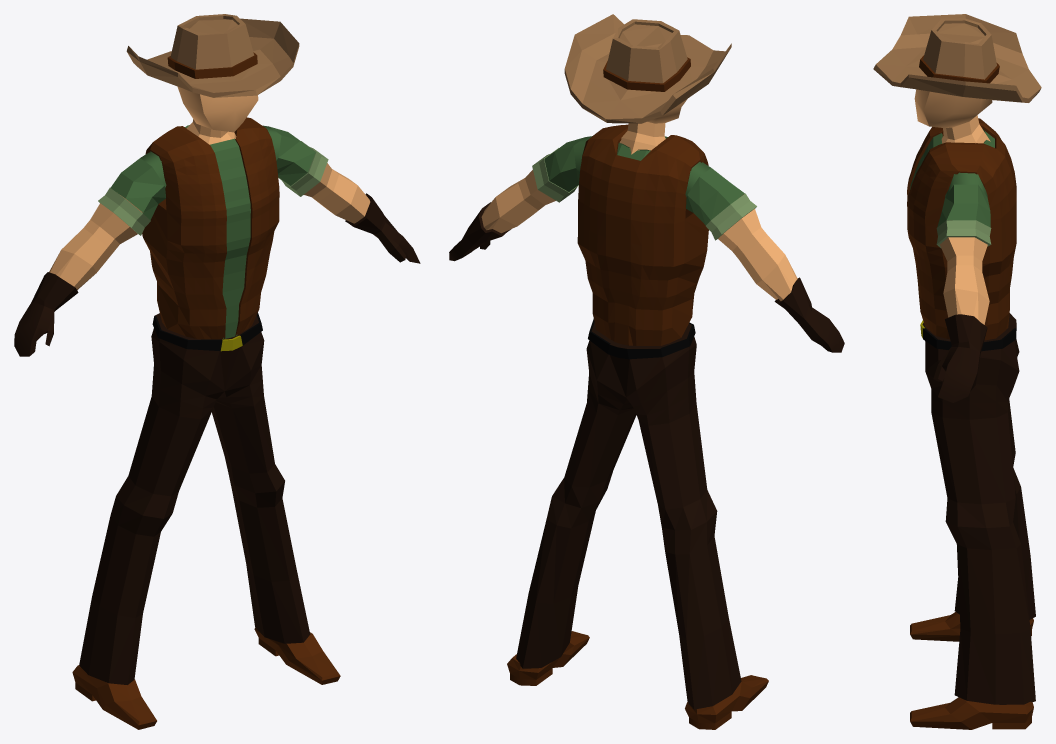
Rendered from Cowboy_1.FBX.
The picture shows the model from 3 angles, left to right: view 1: azimuth 30°, elevation 25°; view 2: azimuth 150°, elevation 25°; view 3: azimuth 270°, elevation 25°; orthographic projection. The views are drawn at different scales.
Parts seen in each view (by area): view 1: Trousers, Torso, Hat, Shirt, Boot Right, Right Arm, Head, Right Glove, Left Arm, Shirts cuffs, Left Glove, Belt (+1 smaller); view 2: Trousers, Torso, Hat, Shirt, Right Arm, Boot Right, Left Arm, Right Glove, Shirts cuffs, Head, Belt, Left Glove (+1 smaller); view 3: Trousers, Torso, Hat, Boot Right, Left Arm, Left Glove, Head, Shirt, Shirts cuffs, Belt, Hat Strap.
Part boxes in pixels (bbox=[...]): Trousers: bbox=[79, 313, 310, 684]; Torso: bbox=[142, 117, 279, 339]; Hat: bbox=[126, 14, 299, 97]; Shirt: bbox=[110, 125, 315, 339]; Boot Right: bbox=[72, 627, 340, 729]; Right Arm: bbox=[49, 195, 142, 290]; Head: bbox=[177, 86, 258, 144]; Right Glove: bbox=[14, 272, 78, 356]; Left Arm: bbox=[304, 163, 370, 223]; Shirts cuffs: bbox=[98, 141, 328, 235]; Left Glove: bbox=[345, 193, 420, 263]; Belt: bbox=[152, 313, 262, 351]; Trousers: bbox=[516, 322, 741, 709]; Torso: bbox=[577, 124, 708, 345]; Hat: bbox=[564, 14, 731, 123]; Shirt: bbox=[544, 136, 744, 225]; Right Arm: bbox=[718, 194, 797, 300]; Boot Right: bbox=[507, 631, 768, 729]; Left Arm: bbox=[481, 169, 555, 233]; Right Glove: bbox=[774, 277, 844, 352]; Shirts cuffs: bbox=[532, 148, 756, 240]; Head: bbox=[619, 99, 687, 154]; Belt: bbox=[588, 318, 695, 359]; Left Glove: bbox=[449, 202, 511, 261]; Trousers: bbox=[922, 313, 1035, 704]; Torso: bbox=[907, 118, 1016, 340]; Hat: bbox=[873, 14, 1041, 102]; Boot Right: bbox=[910, 612, 1033, 729]; Left Arm: bbox=[940, 237, 989, 324]; Left Glove: bbox=[933, 314, 987, 402]; Head: bbox=[914, 89, 992, 143]; Shirt: bbox=[910, 128, 994, 227]; Shirts cuffs: bbox=[936, 220, 991, 247]; Belt: bbox=[923, 326, 1016, 351]; Hat Strap: bbox=[919, 55, 999, 83].
Bounding box in the file's own units: 94.28 × 151 × 35.63.
